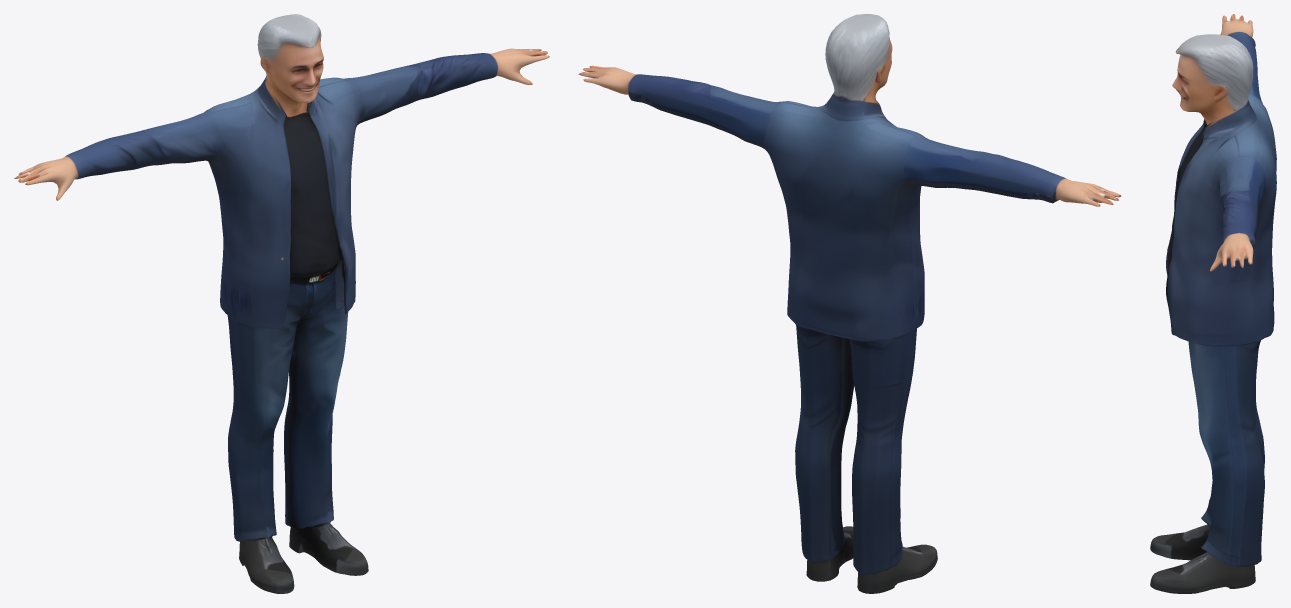
File: hombre_de_55_anos.glb
3 renders of one model, left to right at view 1: azimuth 30°, elevation 25°; view 2: azimuth 150°, elevation 25°; view 3: azimuth 270°, elevation 25°, orthographic. The views are drawn at different scales.
Visible parts, largest first — view 1: Object_10; view 2: Object_10; view 3: Object_10.
Boxes of the visible parts, box(x1,y1,x2,y2) form: Object_10: box(14, 14, 549, 593); Object_10: box(578, 14, 1121, 593); Object_10: box(1150, 14, 1276, 593).
Size of the model in its own units: 1.89 by 1.85 by 0.4.
Materials: 1 (1 with a texture image).
